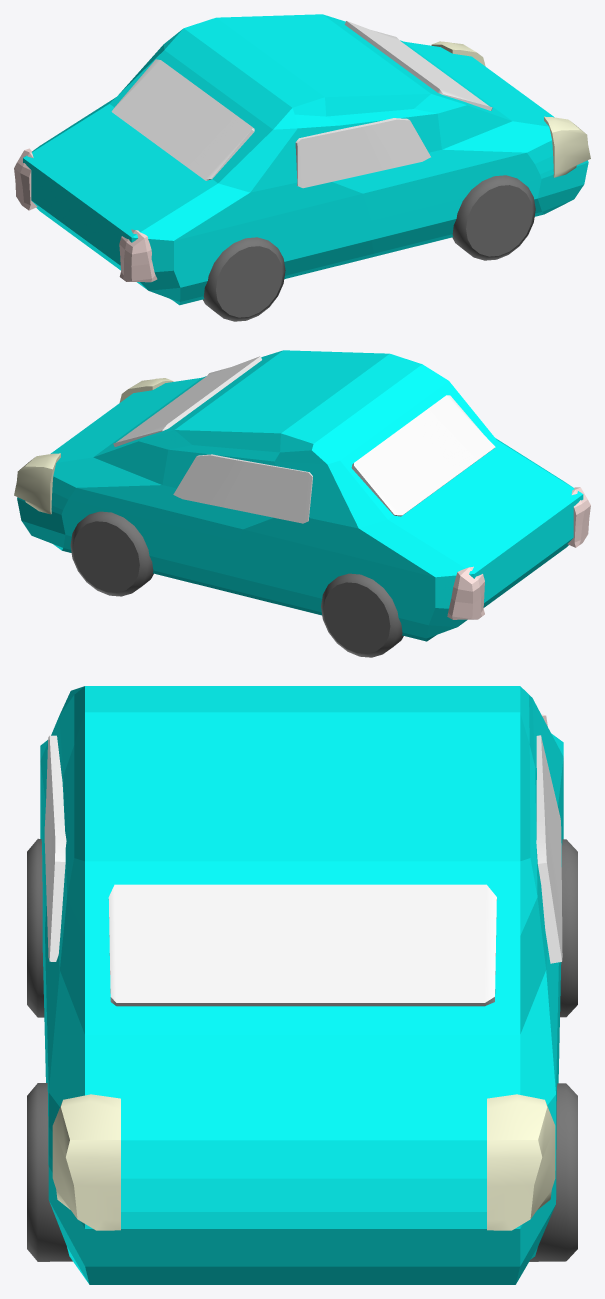
Rendered from CarroAzul.fbx.
3 views of the same model, one above another, from view 1: azimuth 30°, elevation 25°; view 2: azimuth 150°, elevation 25°; view 3: azimuth 270°, elevation 25° (orthographic). The views are drawn at different scales.
Visible parts, largest first — view 1: pCube1, pCube10, pCube8, pCylinder1, pCylinder2, pCube6, pCube11, pCube9; view 2: pCube1, pCube10, pCube12, pCylinder3, pCylinder4, pCube6, pCube11, pCube9; view 3: pCube1, pCube6, pCube9, pCylinder1, pCylinder3, pCube12, pCube8, pCylinder4, pCylinder2.
Part boxes in pixels (bbox=[...]): pCube1: bbox=[23, 14, 588, 305]; pCube10: bbox=[111, 59, 254, 180]; pCube8: bbox=[295, 118, 430, 188]; pCylinder1: bbox=[452, 175, 535, 260]; pCylinder2: bbox=[203, 237, 285, 321]; pCube6: bbox=[344, 21, 492, 110]; pCube11: bbox=[14, 148, 157, 282]; pCube9: bbox=[431, 41, 590, 177]; pCube1: bbox=[17, 350, 583, 641]; pCube10: bbox=[351, 395, 495, 516]; pCube12: bbox=[173, 454, 312, 523]; pCylinder3: bbox=[70, 511, 153, 596]; pCylinder4: bbox=[321, 573, 403, 657]; pCube6: bbox=[113, 356, 261, 446]; pCube11: bbox=[447, 487, 590, 619]; pCube9: bbox=[14, 378, 173, 514]; pCube1: bbox=[40, 686, 563, 1284]; pCube6: bbox=[108, 884, 496, 1006]; pCube9: bbox=[52, 1094, 555, 1230]; pCylinder1: bbox=[27, 1083, 72, 1261]; pCylinder3: bbox=[529, 1083, 577, 1261]; pCube12: bbox=[536, 735, 562, 963]; pCube8: bbox=[44, 735, 66, 961]; pCylinder4: bbox=[560, 839, 577, 1017]; pCylinder2: bbox=[27, 838, 44, 1017].
Size of the model in its own units: 21.52 by 8.56 by 11.09.
